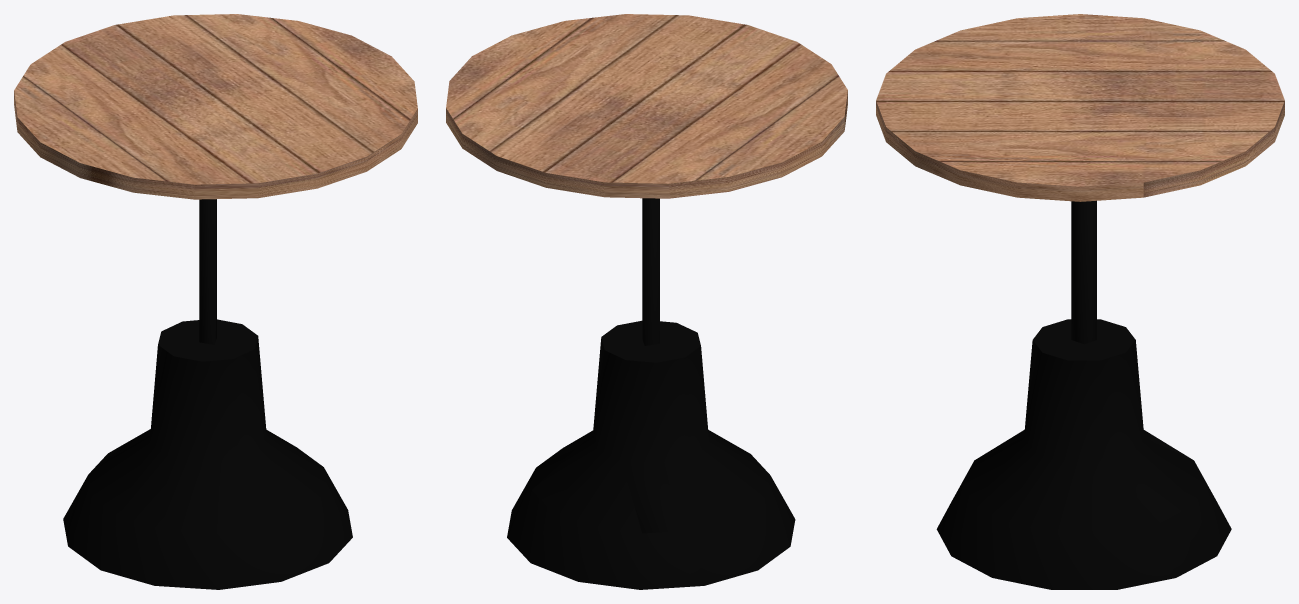
File: lamp.obj
3 views of the same model, side by side, from view 1: azimuth 30°, elevation 25°; view 2: azimuth 150°, elevation 25°; view 3: azimuth 270°, elevation 25° (orthographic).
Visible parts, largest first — view 1: office_lamp_A1; view 2: office_lamp_A1; view 3: office_lamp_A1.
Part boxes in pixels (x1,y1,x2,y2): office_lamp_A1: [14, 14, 417, 589]; office_lamp_A1: [446, 14, 847, 589]; office_lamp_A1: [876, 14, 1284, 589].
Size of the model in its own units: 1.35 by 1.58 by 1.35.
Materials: 3 (3 with a texture image).
